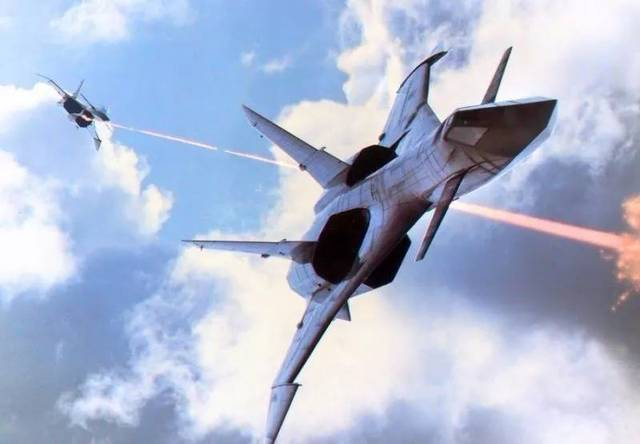airplane: (179, 42, 561, 439), (40, 69, 108, 149)
